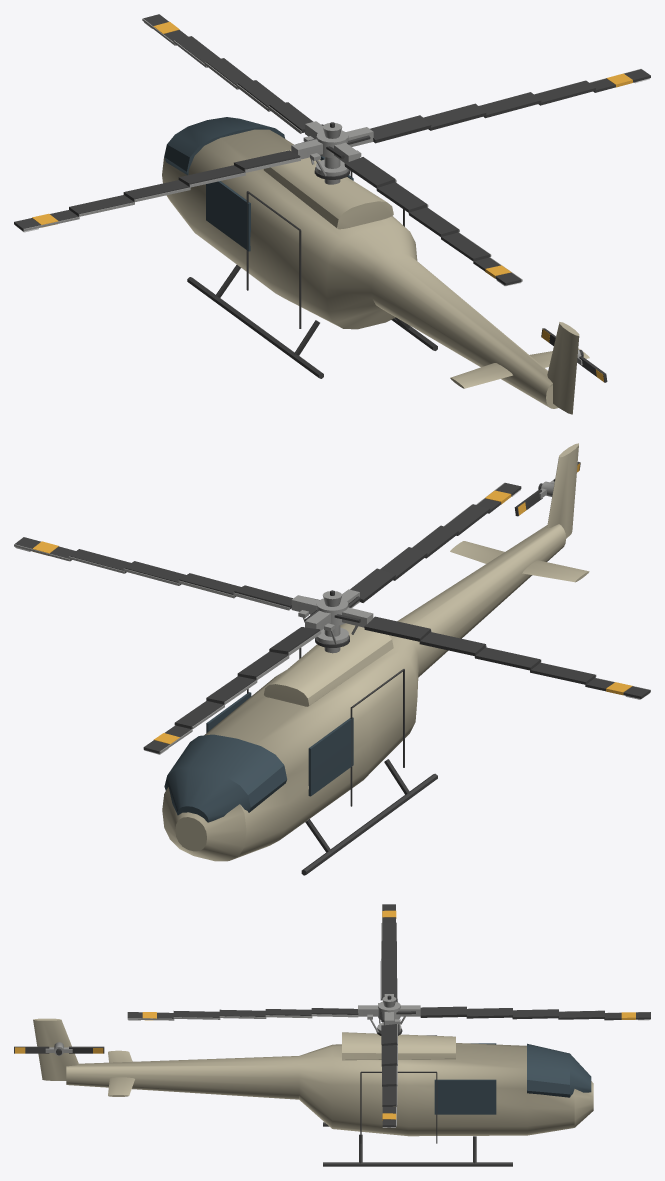
File: rus_heli_ansat.glb
The picture shows the model from 3 angles, top to bottom: view 1: azimuth 30°, elevation 25°; view 2: azimuth 150°, elevation 25°; view 3: azimuth 270°, elevation 25°; orthographic projection. The views are drawn at different scales.
Parts seen in each view (by area): view 1: body, rotor; view 2: body, rotor; view 3: body, rotor, trotor.
Part boxes in pixels (bbox=[...]): body: bbox=[162, 117, 589, 414]; rotor: bbox=[14, 14, 650, 286]; body: bbox=[162, 443, 589, 875]; rotor: bbox=[14, 482, 650, 754]; body: bbox=[33, 1018, 593, 1166]; rotor: bbox=[127, 904, 650, 1127]; trotor: bbox=[14, 1042, 104, 1055].
Bounding box in the file's own units: 11.01 × 3.49 × 13.41.
